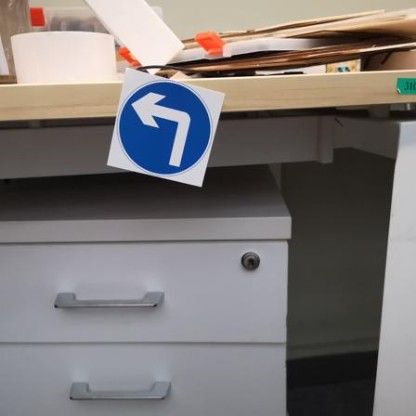left: (105, 62, 223, 189)
